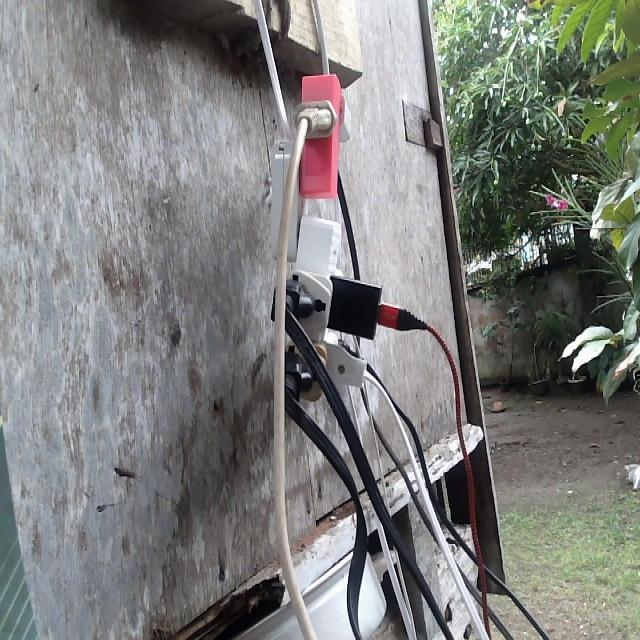-: (268, 72, 393, 417)
